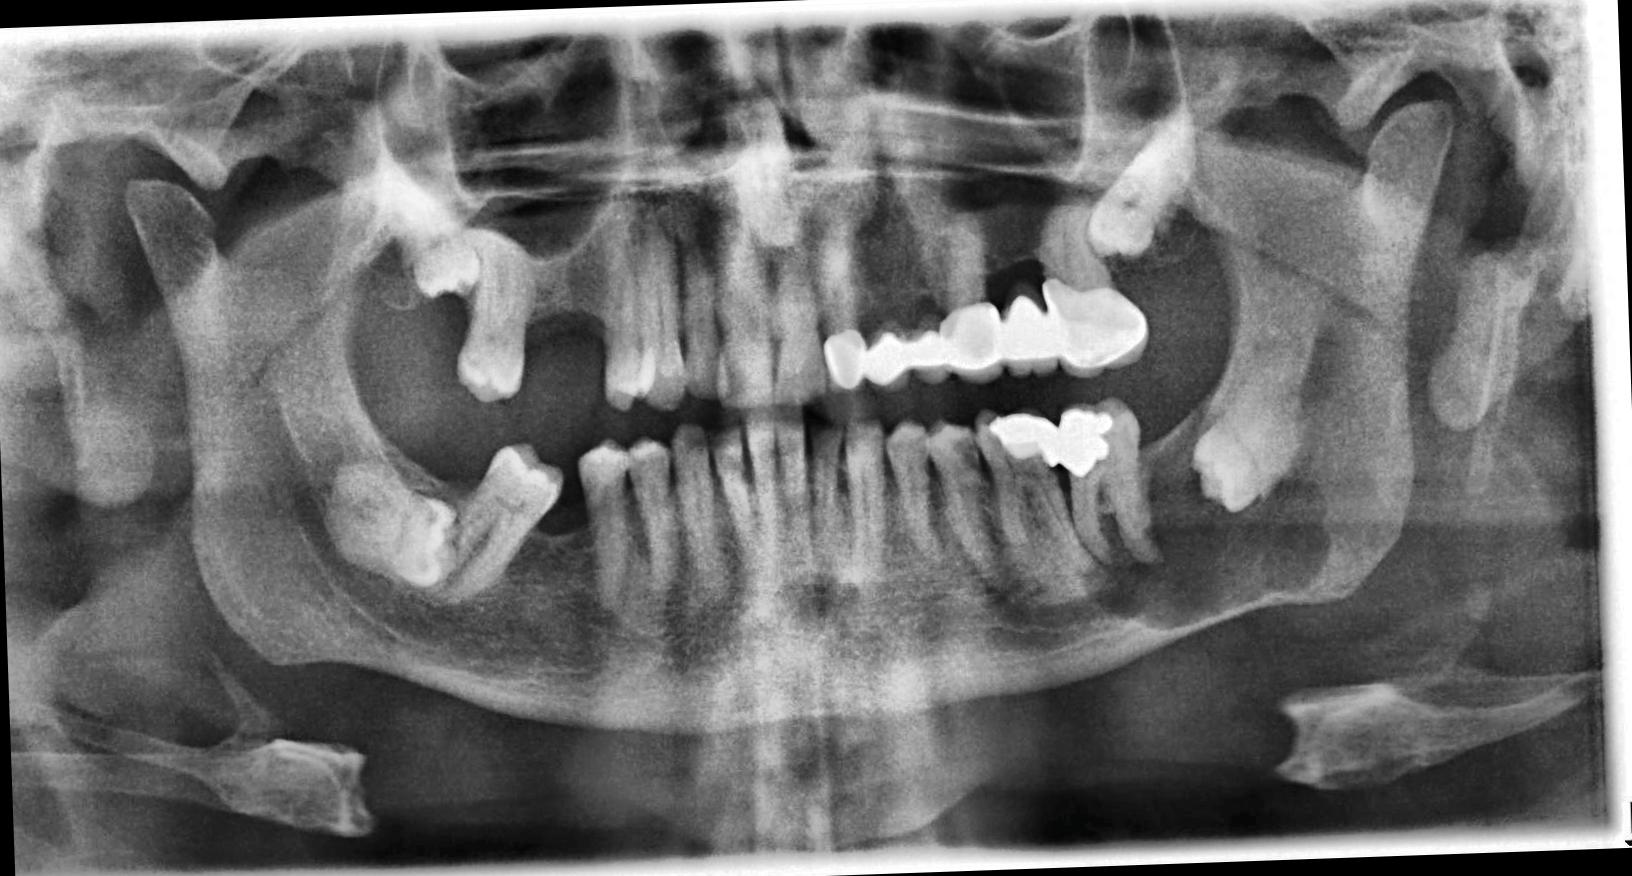dentigerous: (1070, 398, 1335, 638)
